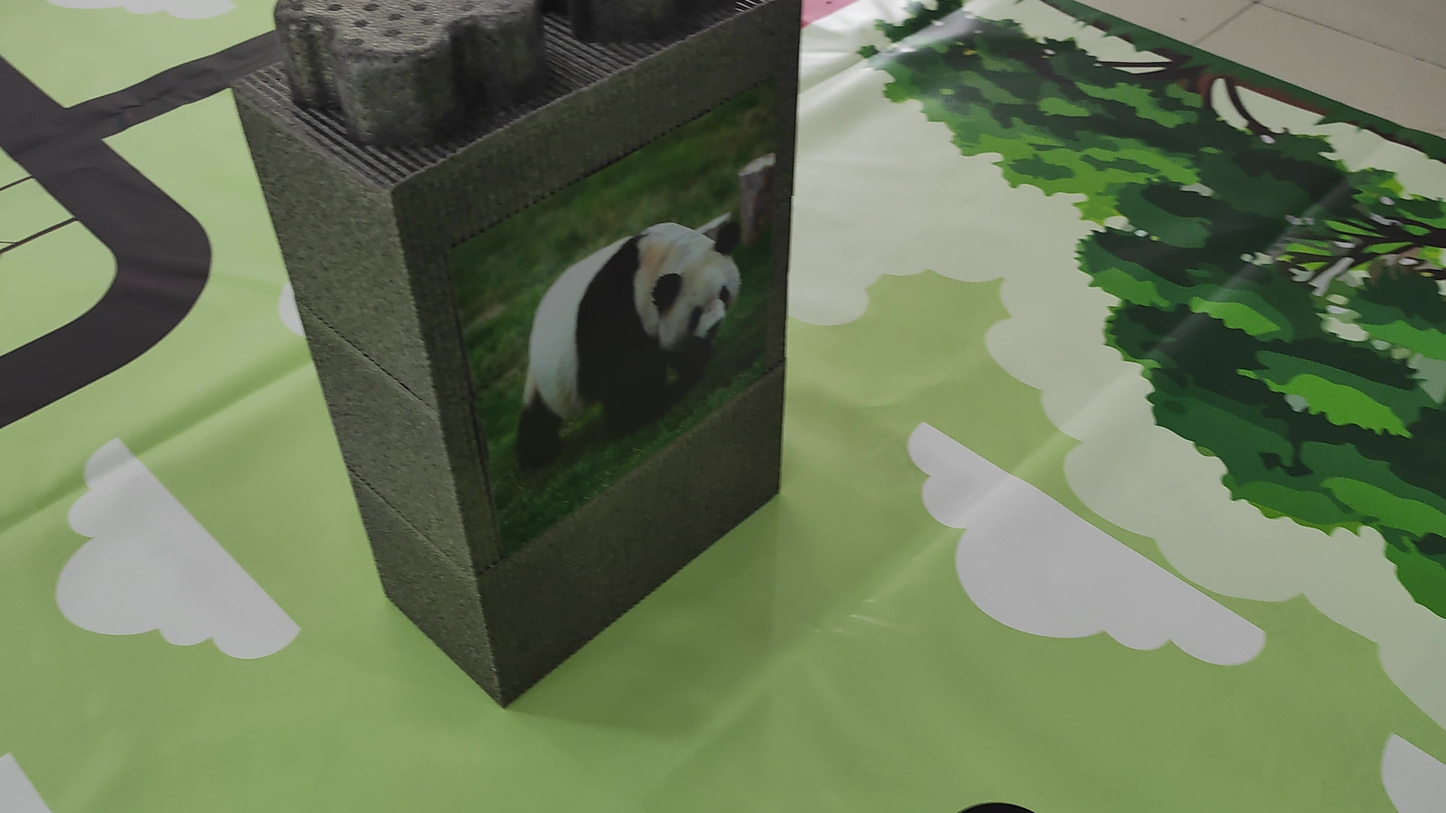panda: (487, 214, 777, 455)
